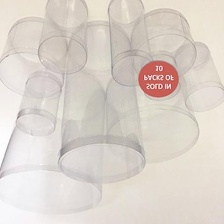plastic_box: (53, 16, 150, 190), (0, 117, 106, 221), (100, 70, 204, 167), (0, 12, 69, 102), (127, 4, 200, 83), (103, 0, 158, 90), (33, 0, 93, 79), (170, 38, 224, 115), (12, 68, 66, 140)
